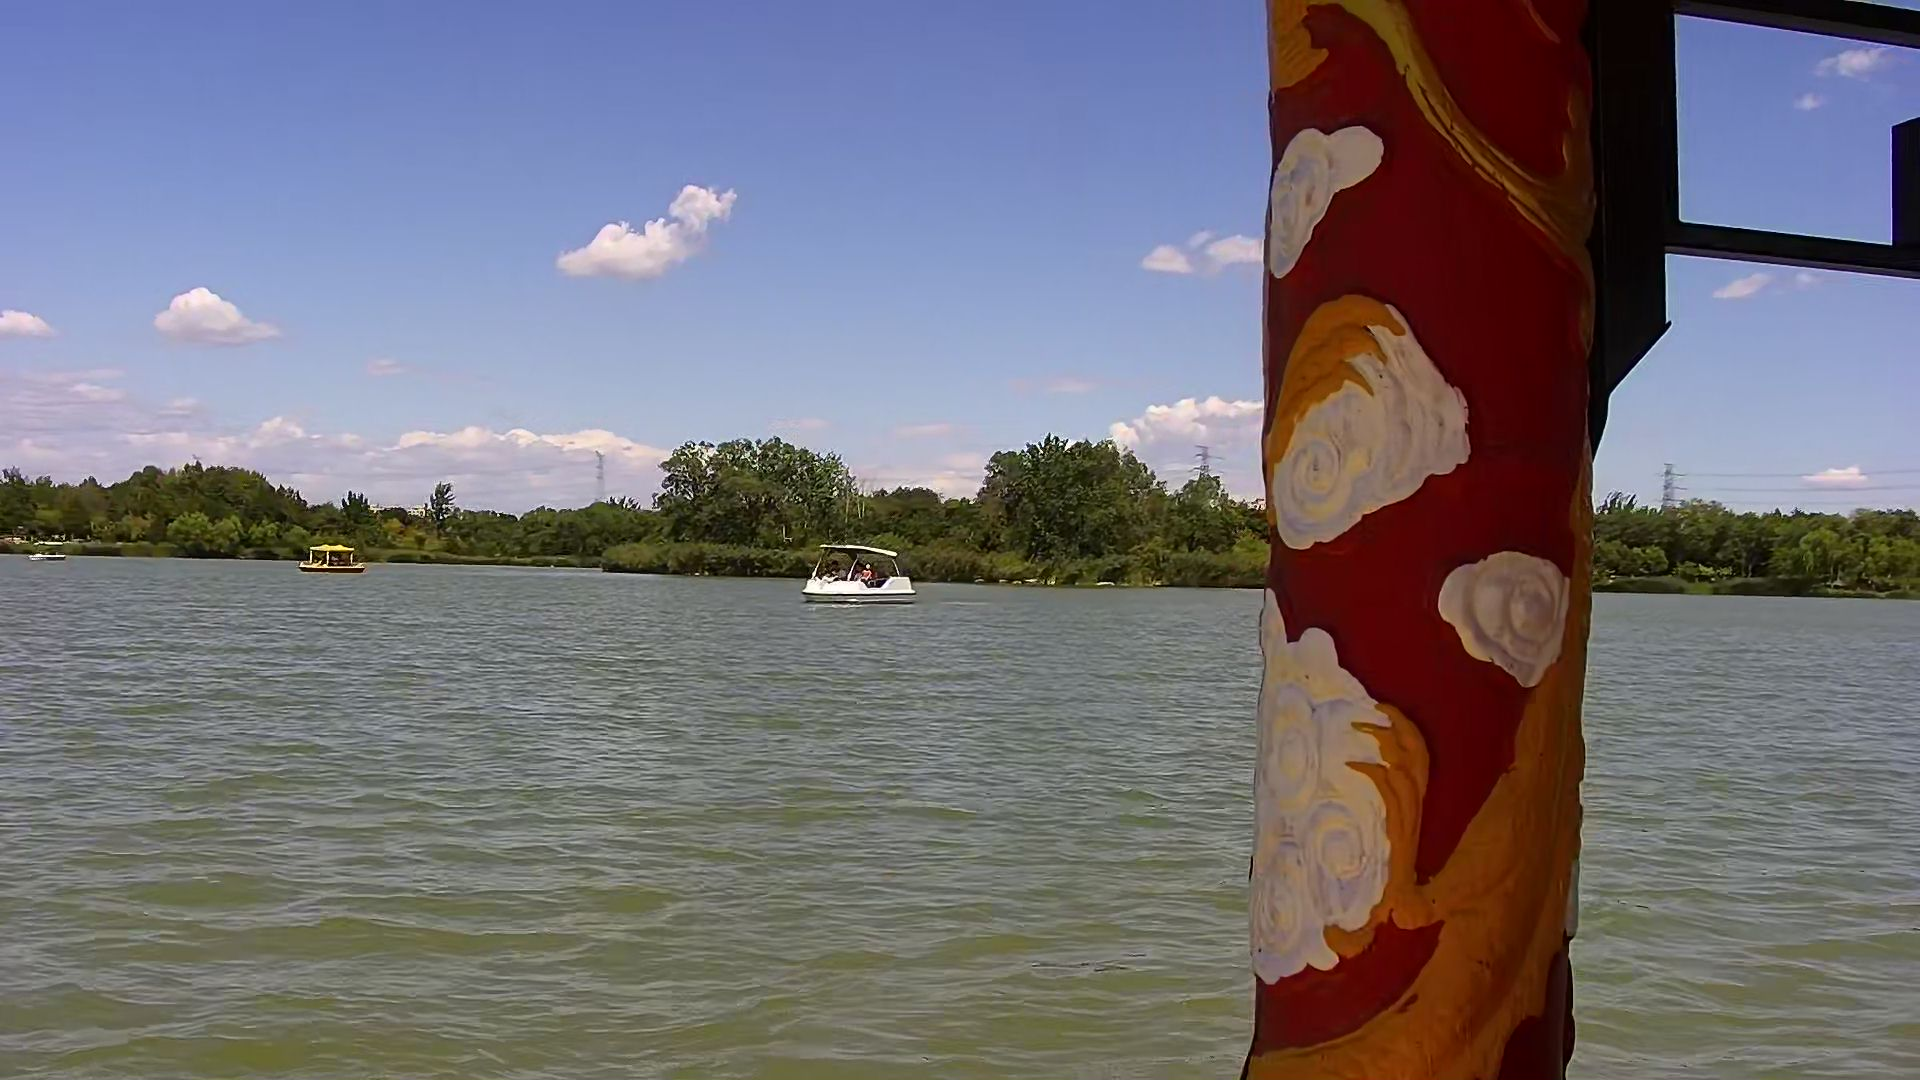boat: (803, 543, 911, 607), (303, 539, 357, 571), (30, 541, 59, 556)
